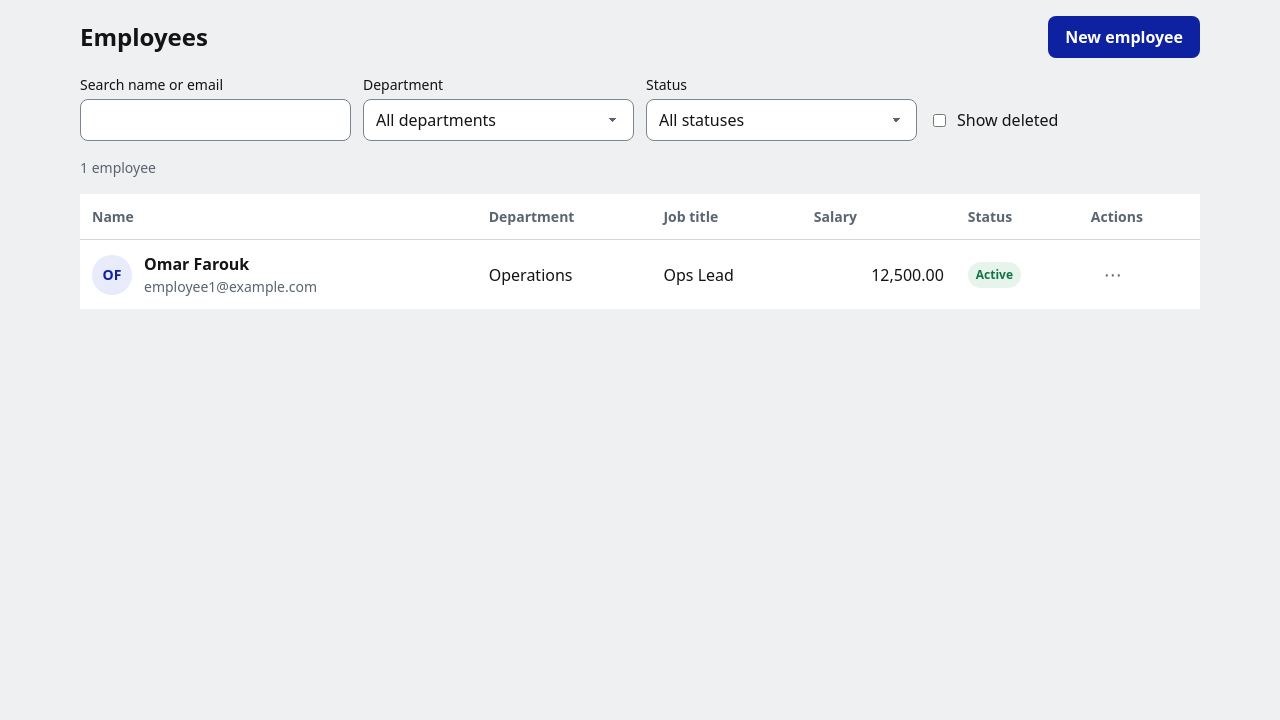
Test: Payslip drawer - opening and month (edge case 18) › is titled "Payslip — <fullName>"
This screenshot has width=1280, height=720.
Expected: the table is shown, [80,194,1200,309]
Click the button named "Actions for Omar Farouk" at (1113, 274), box [1091,256,1135,293]
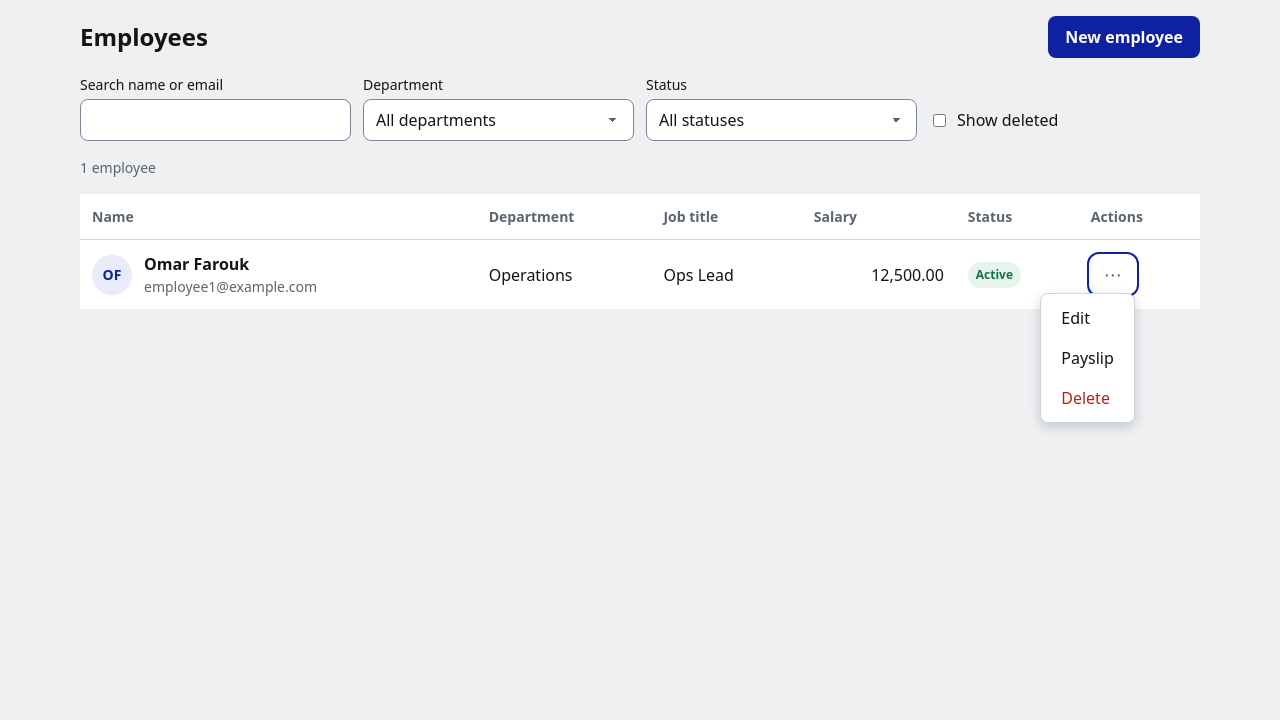
Click the menu item "Payslip" at (1088, 358), box [1045,338,1130,378]
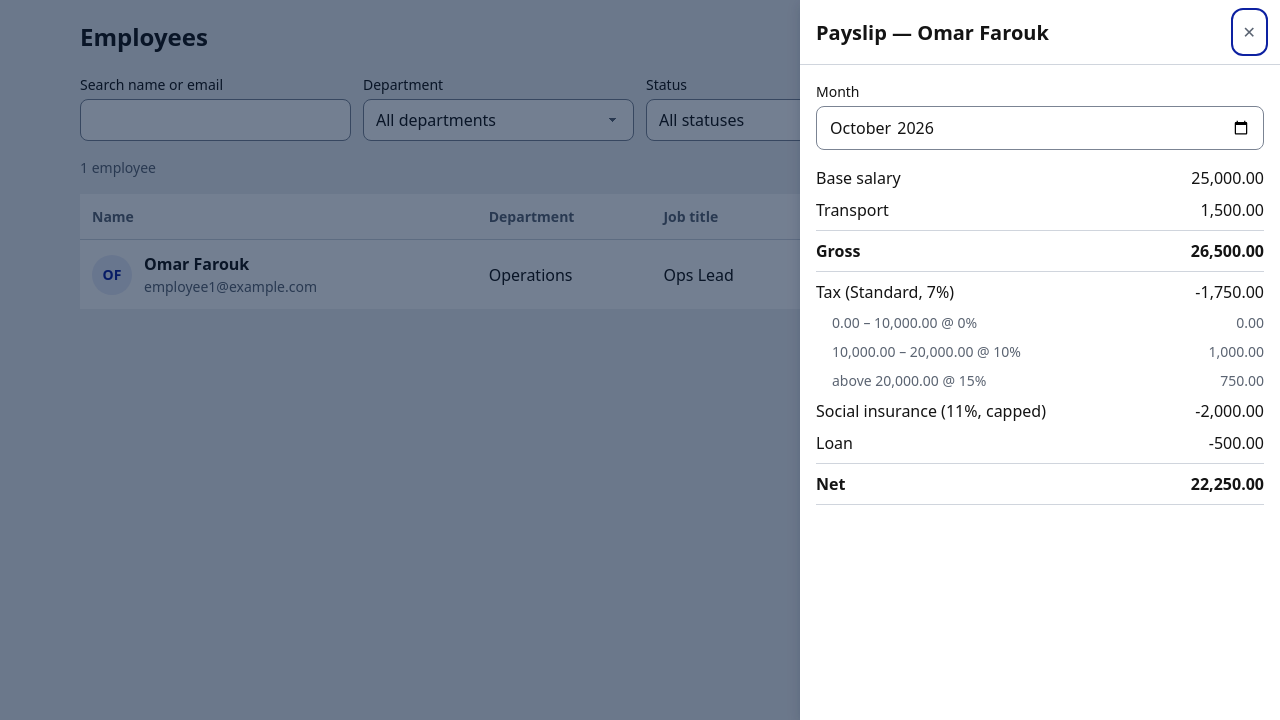
Expected: the dialog "Payslip — Omar Farouk" is shown, [800,0,1279,719]
